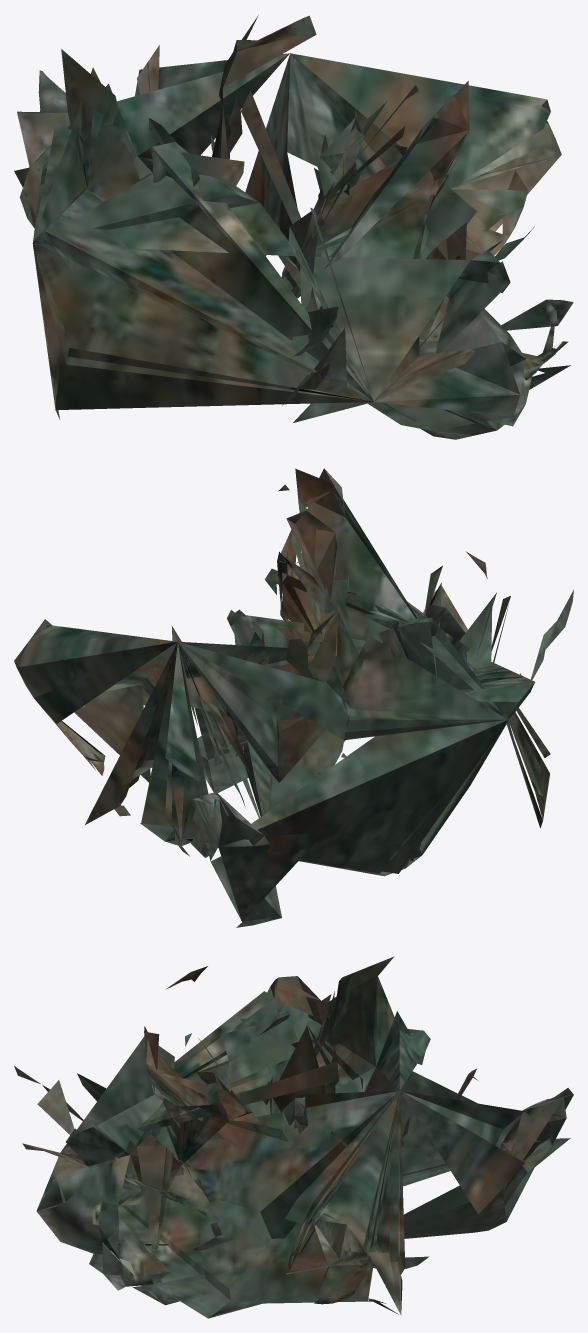
The model's file is crystal_cluster_584962985_lod0.glb.
3 renders of one model, top to bottom at view 1: azimuth 30°, elevation 25°; view 2: azimuth 150°, elevation 25°; view 3: azimuth 270°, elevation 25°, orthographic. The views are drawn at different scales.
Bounding box in the file's own units: 2.25 × 1.44 × 2.56.
Materials: 1 (1 with a texture image).
